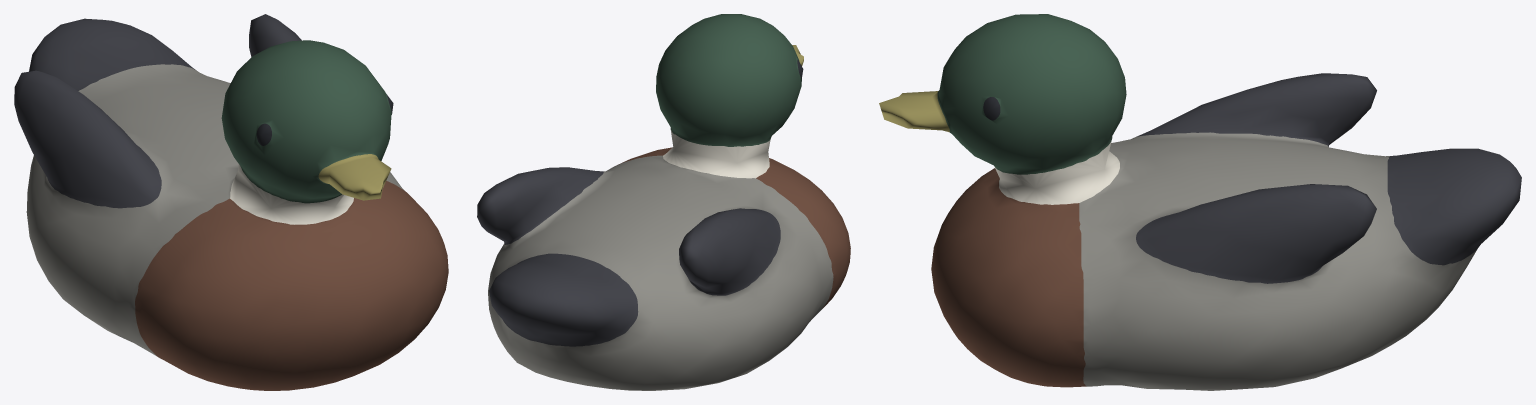
Rendered from skins_decoy2.glb.
3 views of the same model, side by side, from view 1: azimuth 30°, elevation 25°; view 2: azimuth 150°, elevation 25°; view 3: azimuth 270°, elevation 25° (orthographic). The views are drawn at different scales.
Parts seen in each view (by area): view 1: duck@decoy_breast__p6c4b3c, duck@decoy_body__p8b8a84, duck@decoy_head__p3f5a4a, duck@decoy_wings__p3c3d44, duck@decoy_tail__p3c3d44, duck@decoy_neck__pdcd8cc, duck@decoy_bill__p9c935a; view 2: duck@decoy_body__p8b8a84, duck@decoy_head__p3f5a4a, duck@decoy_wings__p3c3d44, duck@decoy_tail__p3c3d44, duck@decoy_breast__p6c4b3c, duck@decoy_neck__pdcd8cc; view 3: duck@decoy_body__p8b8a84, duck@decoy_wings__p3c3d44, duck@decoy_breast__p6c4b3c, duck@decoy_head__p3f5a4a, duck@decoy_tail__p3c3d44, duck@decoy_neck__pdcd8cc, duck@decoy_bill__p9c935a.
Part boxes in pixels (x1,y1,x2,y2): duck@decoy_breast__p6c4b3c: (135,181,448,390); duck@decoy_body__p8b8a84: (26,64,404,356); duck@decoy_head__p3f5a4a: (221,40,391,203); duck@decoy_wings__p3c3d44: (14,14,301,208); duck@decoy_tail__p3c3d44: (29,18,195,90); duck@decoy_neck__pdcd8cc: (230,164,353,224); duck@decoy_bill__p9c935a: (318,154,391,200); duck@decoy_body__p8b8a84: (488,155,833,390); duck@decoy_head__p3f5a4a: (656,14,801,146); duck@decoy_wings__p3c3d44: (477,167,780,295); duck@decoy_tail__p3c3d44: (489,253,638,346); duck@decoy_breast__p6c4b3c: (614,147,850,308); duck@decoy_neck__pdcd8cc: (663,130,770,178); duck@decoy_body__p8b8a84: (1079,132,1478,390); duck@decoy_wings__p3c3d44: (1136,73,1376,283); duck@decoy_breast__p6c4b3c: (931,168,1086,387); duck@decoy_head__p3f5a4a: (937,14,1126,174); duck@decoy_tail__p3c3d44: (1387,148,1521,265); duck@decoy_neck__pdcd8cc: (995,141,1119,204); duck@decoy_bill__p9c935a: (879,91,949,132).
Bounding box in the file's own units: 3.79 × 3.78 × 6.46.
